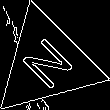N_SE: (15, 32, 78, 95)
